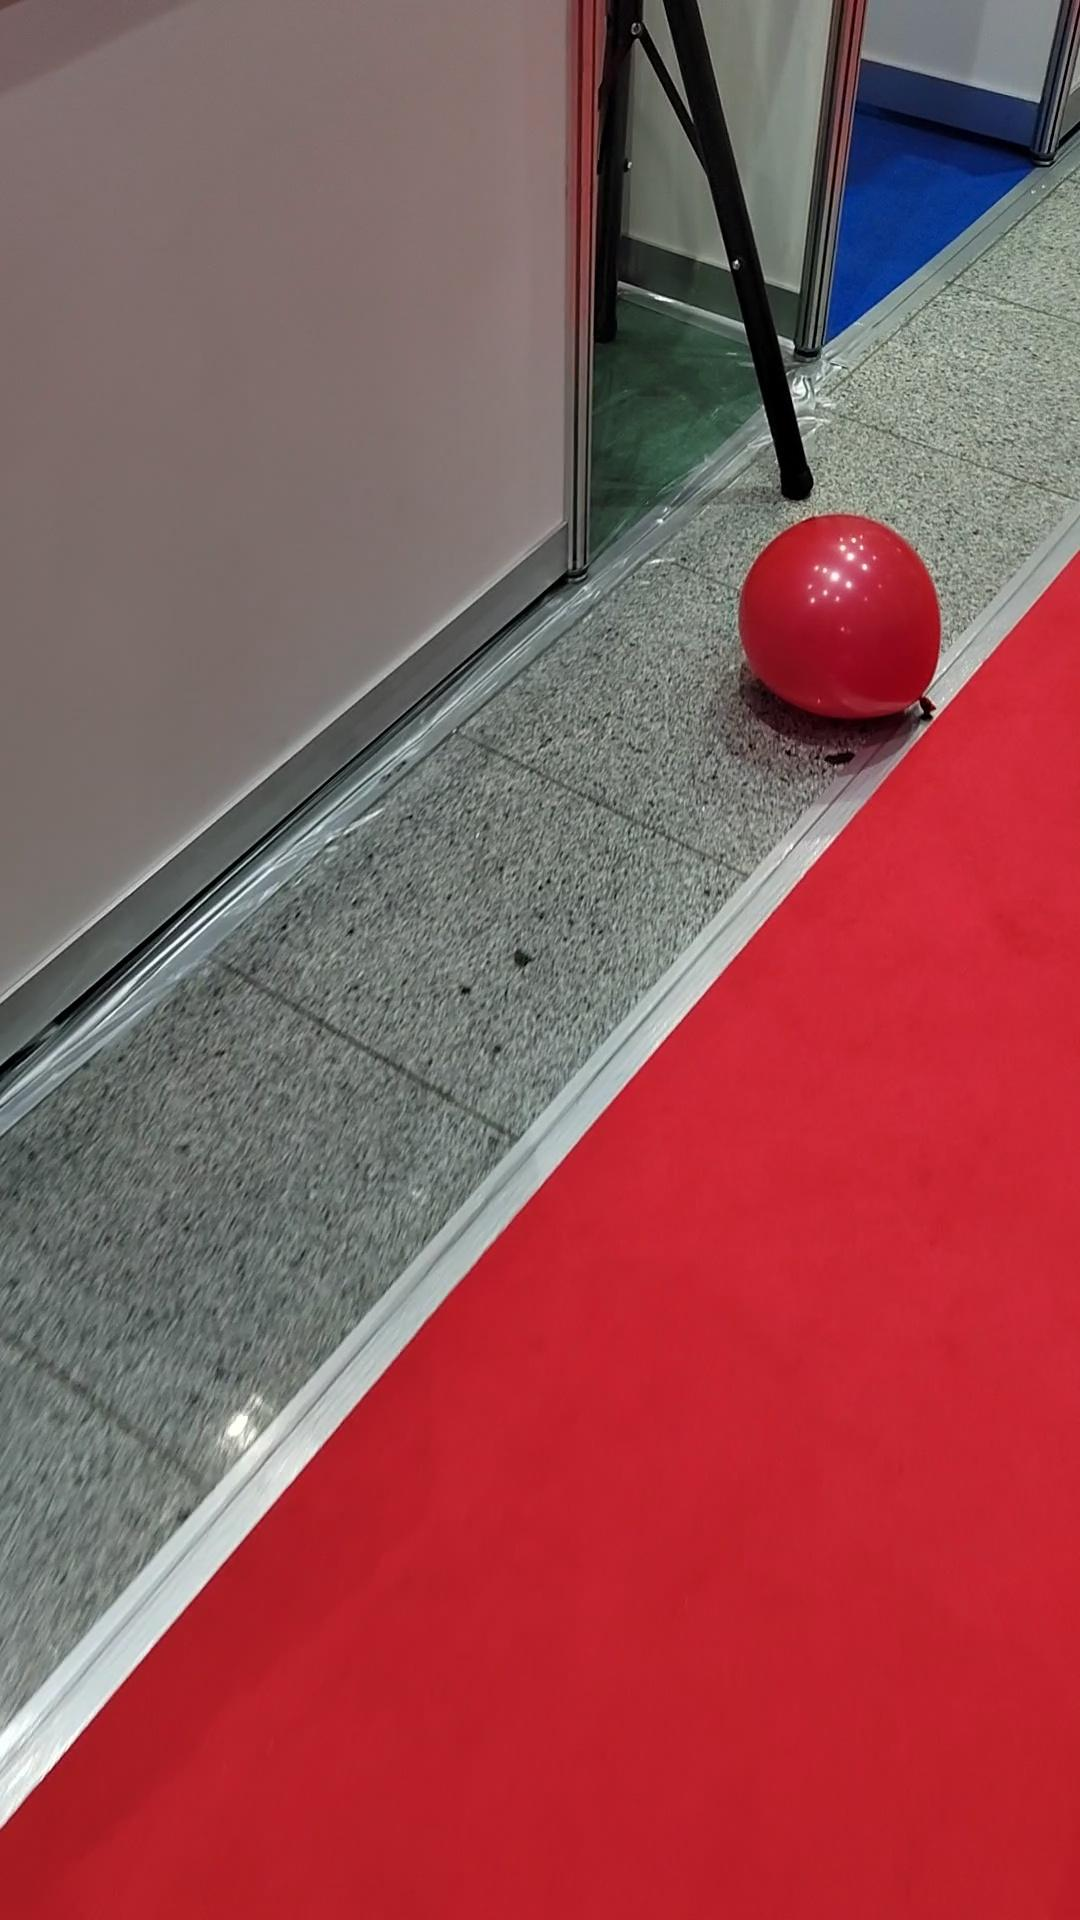red: (731, 504, 947, 740)
